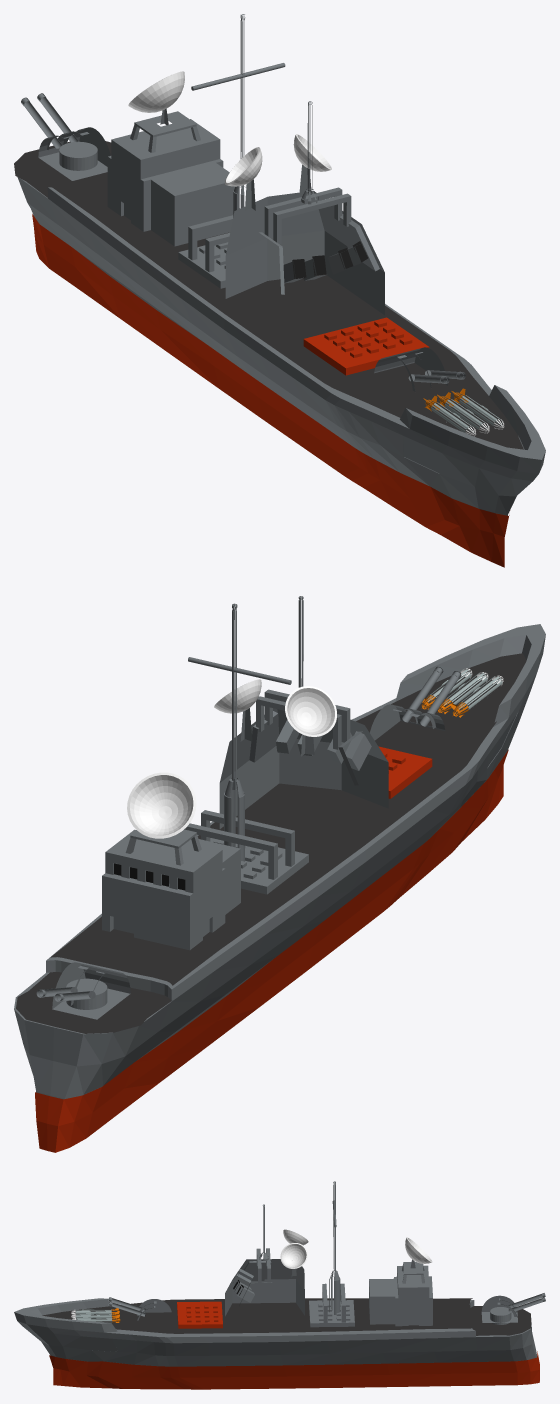
File: AEGIS Cruiser.glb
The picture shows the model from 3 angles, top to bottom: view 1: azimuth 30°, elevation 25°; view 2: azimuth 150°, elevation 25°; view 3: azimuth 270°, elevation 25°; orthographic projection. The views are drawn at different scales.
Visible parts, largest first — view 1: window.014; view 2: window.014; view 3: window.014.
Boxes of the visible parts, x1=… form: window.014: x1=14, y1=14, x2=545, y2=567; window.014: x1=14, y1=596, x2=545, y2=1152; window.014: x1=14, y1=1181, x2=545, y2=1389.
Size of the model in its own units: 0.6344 by 1.61 by 3.81.
